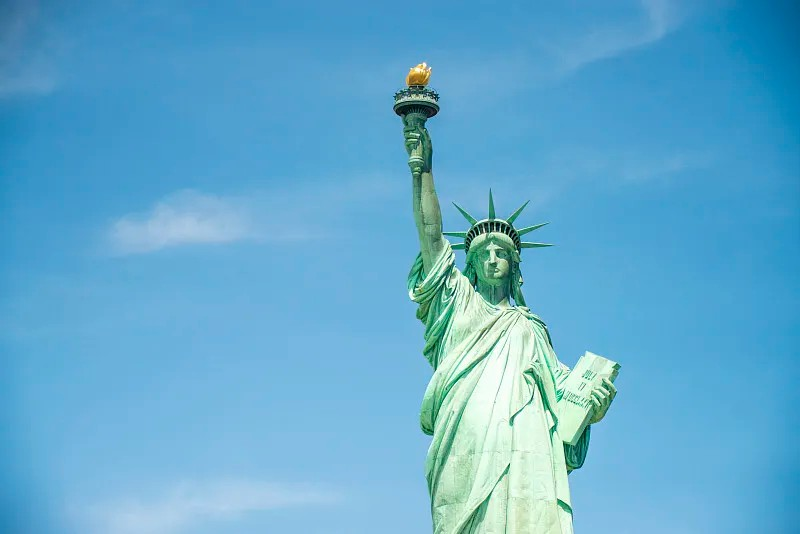SL: (392, 63, 622, 534)
